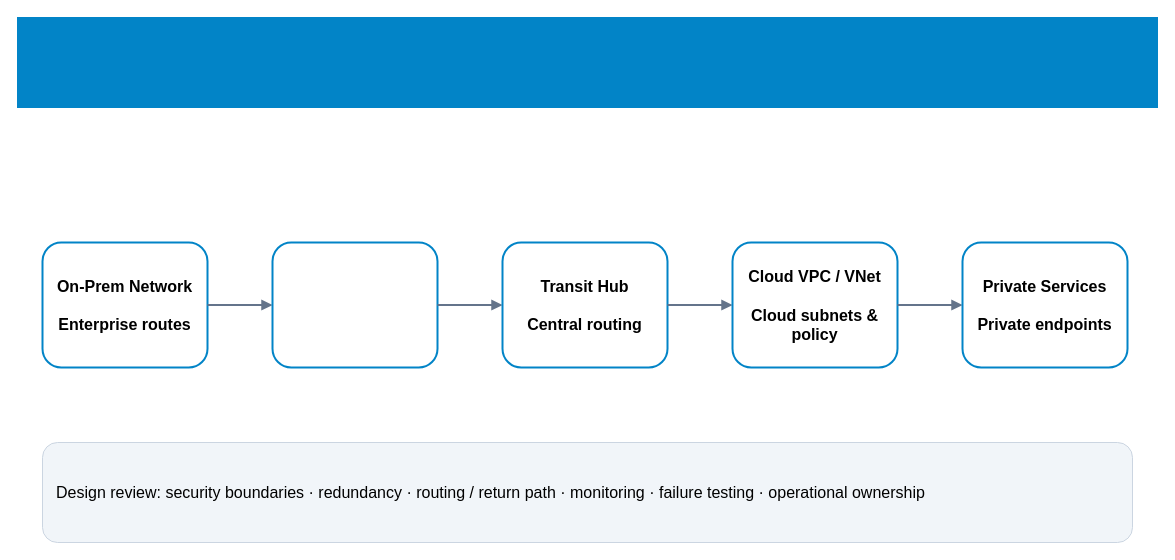
The diagram is 1175 pixels wide and 560 high, and some of its shapes have lost their labels. Each missing label, with the box of its shape:
Cloud and Hybrid Networking Connect cloud, data center and edge: (16, 16, 1158, 108)
VPN / Direct Connect Encrypted / private link: (271, 241, 438, 368)
